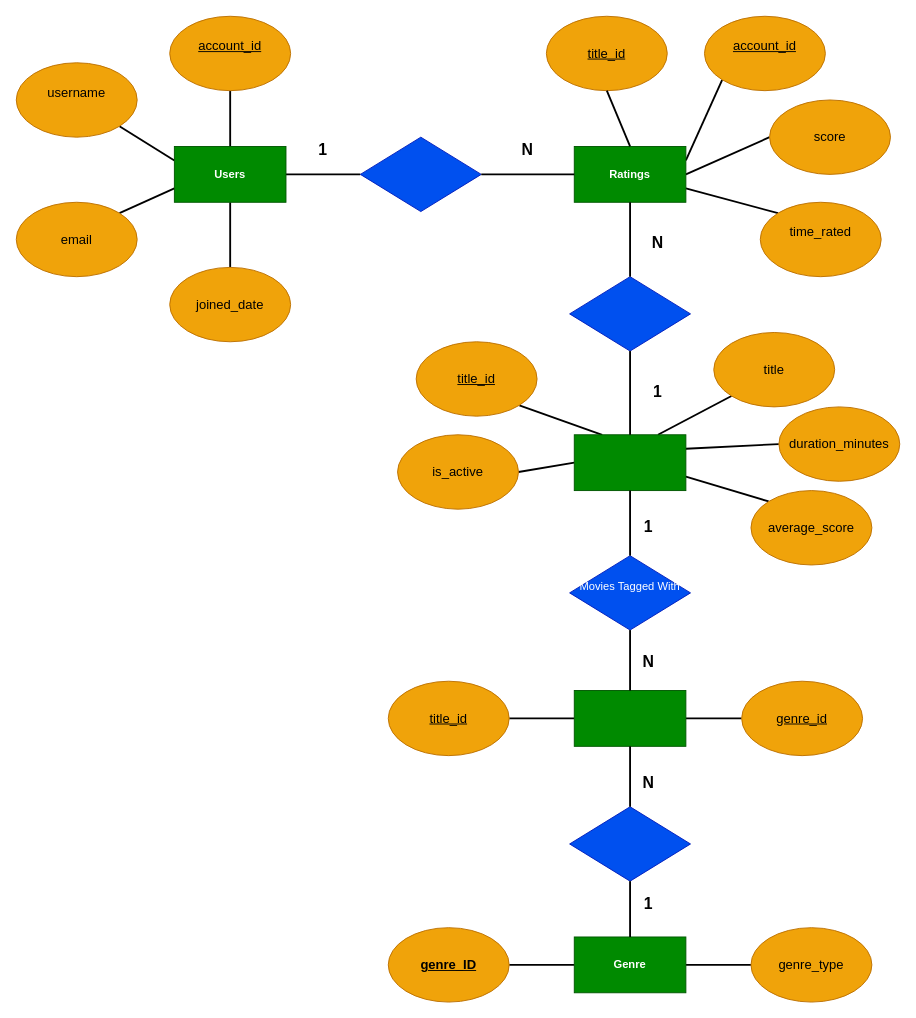
This 916x1018 diagram has some shape labels left out. Each missing label, with the centre of its shape:
"Genres Assigned To" belongs at [630,843].
"Movie Ratings" belongs at [630,313].
"Movie_Genre" belongs at [629,718].
"Movies" belongs at [629,462].
"User Ratings" belongs at [420,174].
